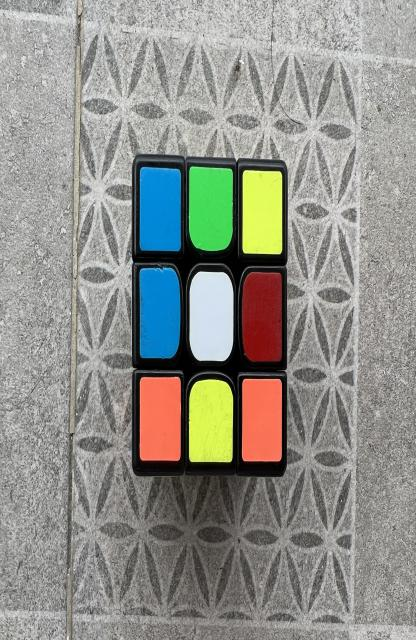Blue: (140, 267, 180, 358), (140, 167, 181, 252)
Green: (188, 167, 233, 252)
Orange: (140, 377, 181, 462), (242, 378, 282, 462)
Red: (242, 272, 282, 362)
White: (189, 272, 234, 362)
Yellow: (188, 378, 233, 463), (242, 170, 283, 255)
